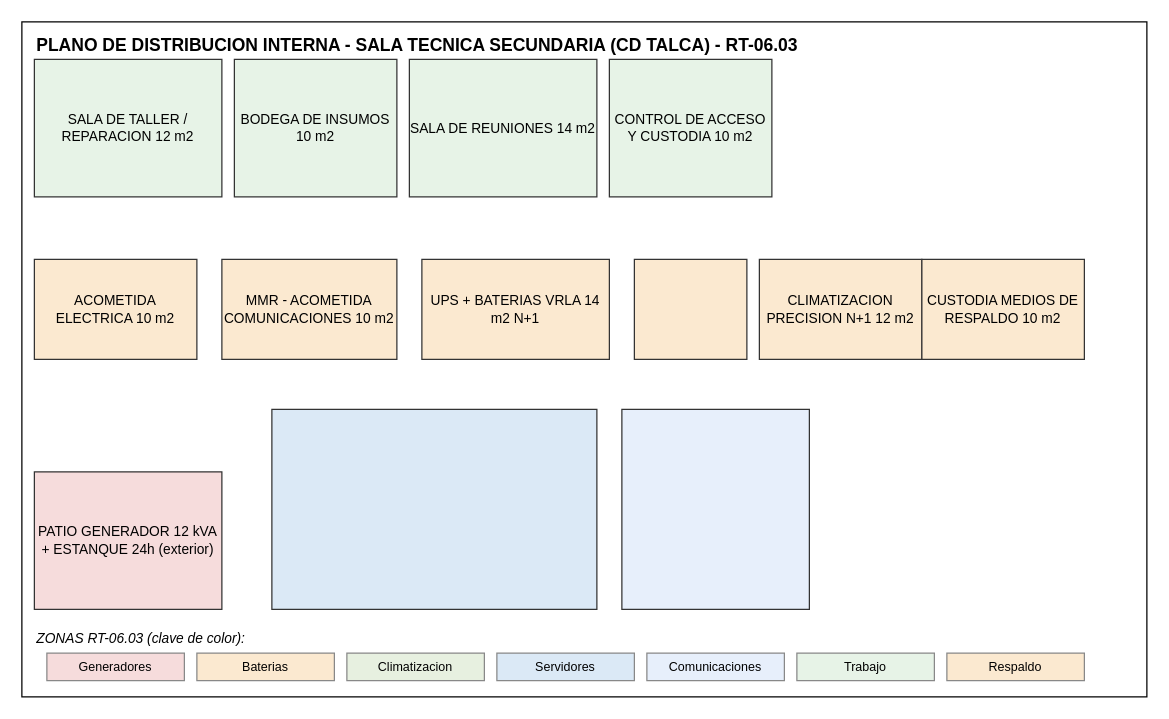
Image size: 1169x719. Some labels were removed from this diagram. Each missing label, with the box of its shape:
NOC / MONITOREO 14 m2: (621, 408, 809, 609)
SALA BLANCA (D) 32 m2 - 4 RACKS: (271, 408, 597, 609)
SALA DE EXTINCION FM-200 5 m2: (633, 258, 747, 359)
